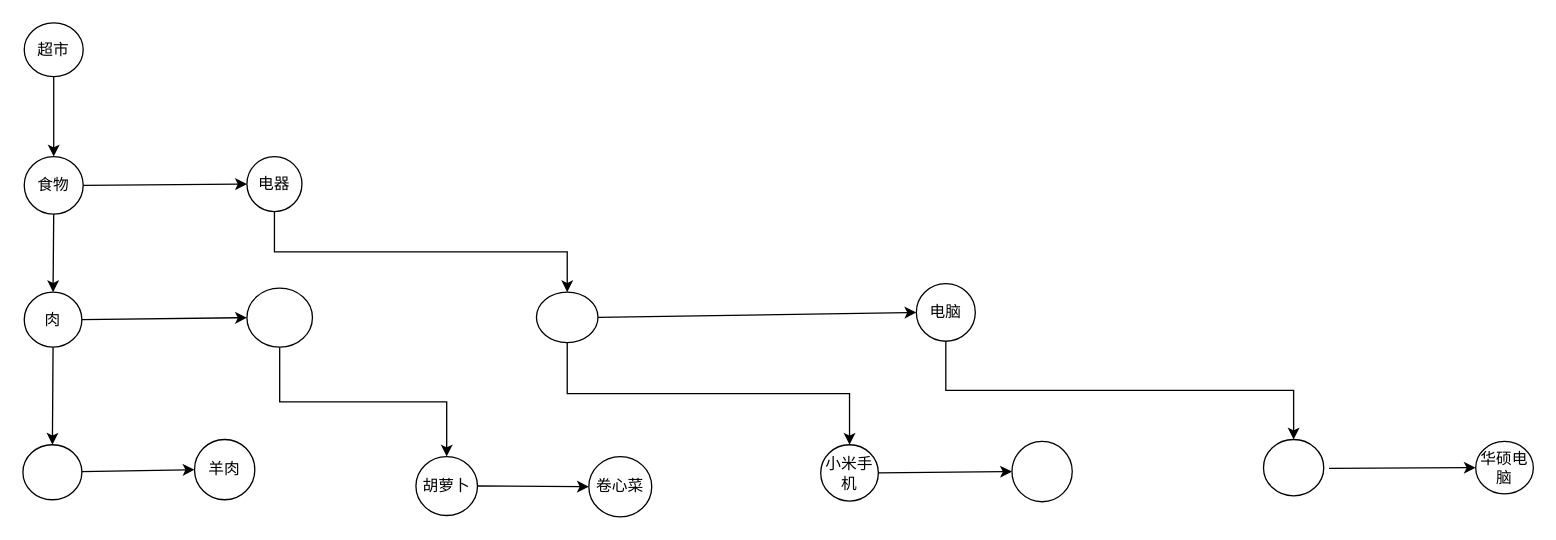
The diagram is 1556 pixels wide and 540 high, and some of its shapes have lost their labels. Here are the shapes that lost their labels. From the top down, the centre of each, then its label:
point (279, 317): 蔬菜
point (566, 317): 手机
point (52, 471): 牛肉
point (1041, 471): 华为手机
point (1293, 467): 苹果电脑
